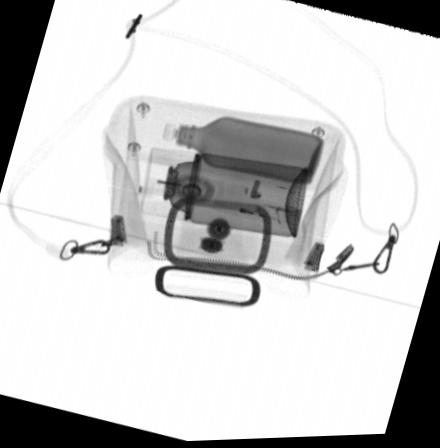Lighter: (235, 196, 299, 233)
Sprayer: (141, 148, 309, 241)
